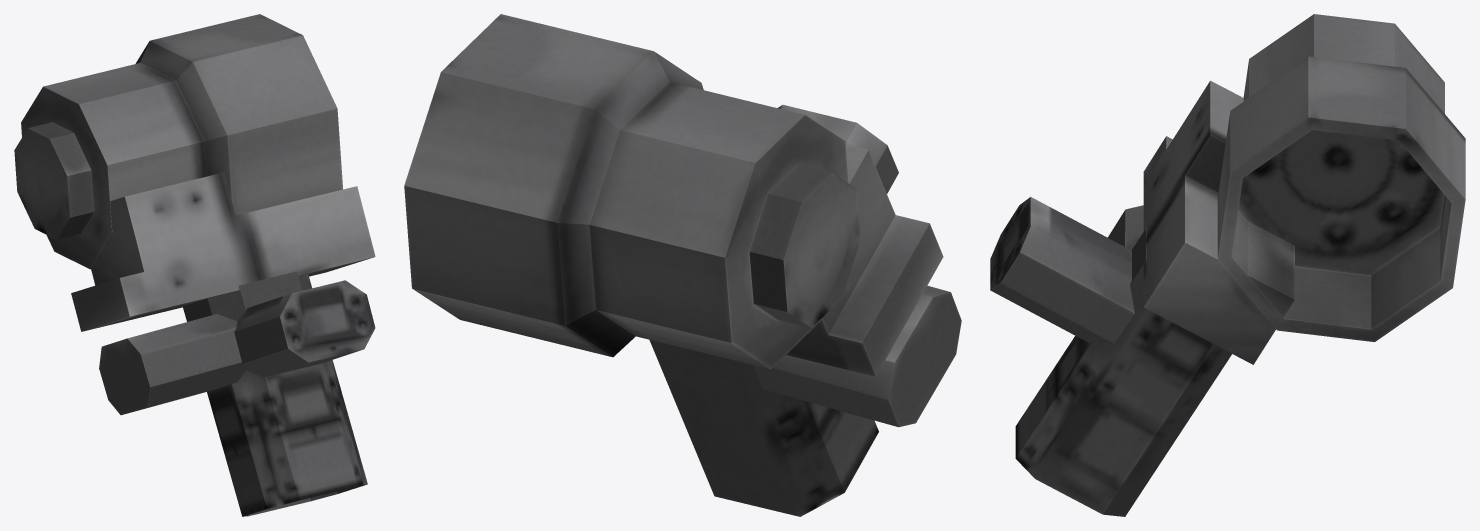
The model's file is l_clav.dae.
3 views of the same model, side by side, from view 1: azimuth 30°, elevation 25°; view 2: azimuth 150°, elevation 25°; view 3: azimuth 270°, elevation 25° (orthographic). The views are drawn at different scales.
Parts seen in each view (by area): view 1: drc_l_clav; view 2: drc_l_clav; view 3: drc_l_clav.
Boxes of the visible parts, <box> form: drc_l_clav: <box>14,14,375,516</box>; drc_l_clav: <box>404,14,961,516</box>; drc_l_clav: <box>990,14,1465,516</box>.
Bounding box in the file's own units: 0.116 × 0.1715 × 0.1751.
Materials: 1 (1 with a texture image).
